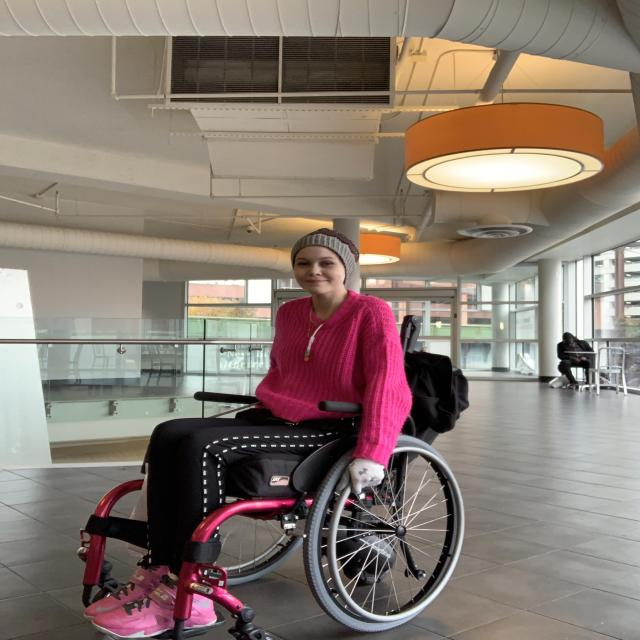wheelchairs: (62, 322, 512, 640)
